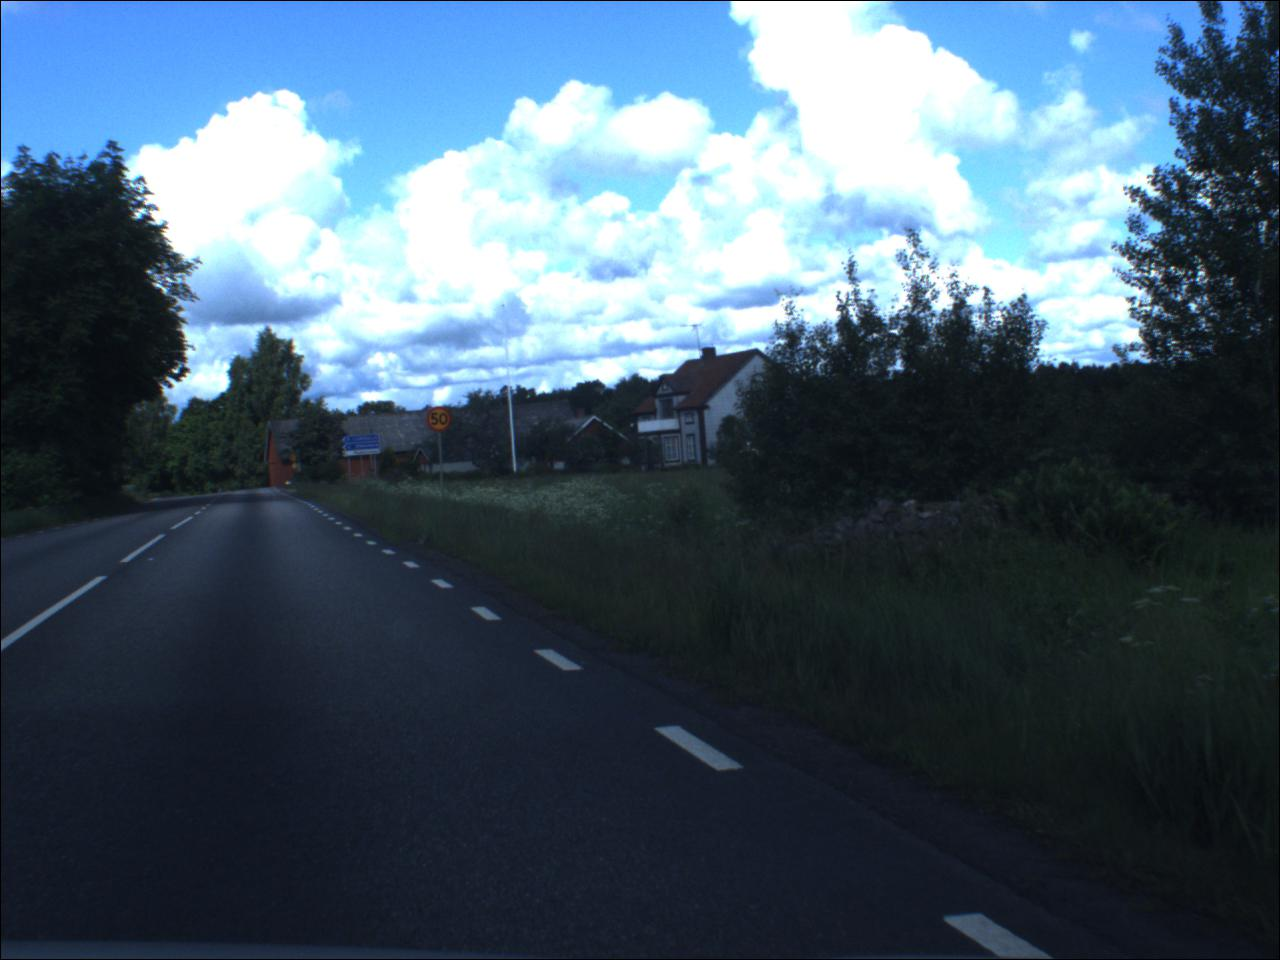50_SIGN: (428, 409, 456, 434)
